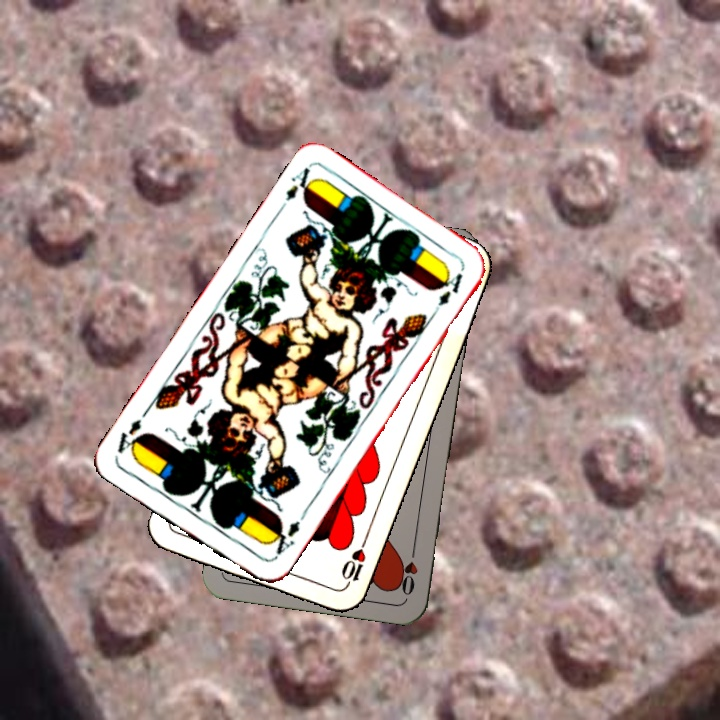EA: (274, 163, 319, 215), (265, 516, 303, 562)
H10: (337, 535, 370, 592)
HO: (395, 540, 421, 598)
